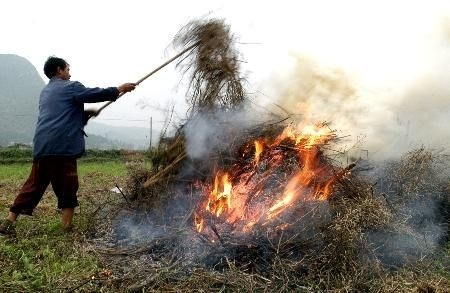fire: (192, 107, 339, 234)
